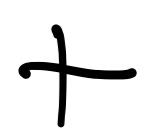plus: (18, 25, 137, 127)
